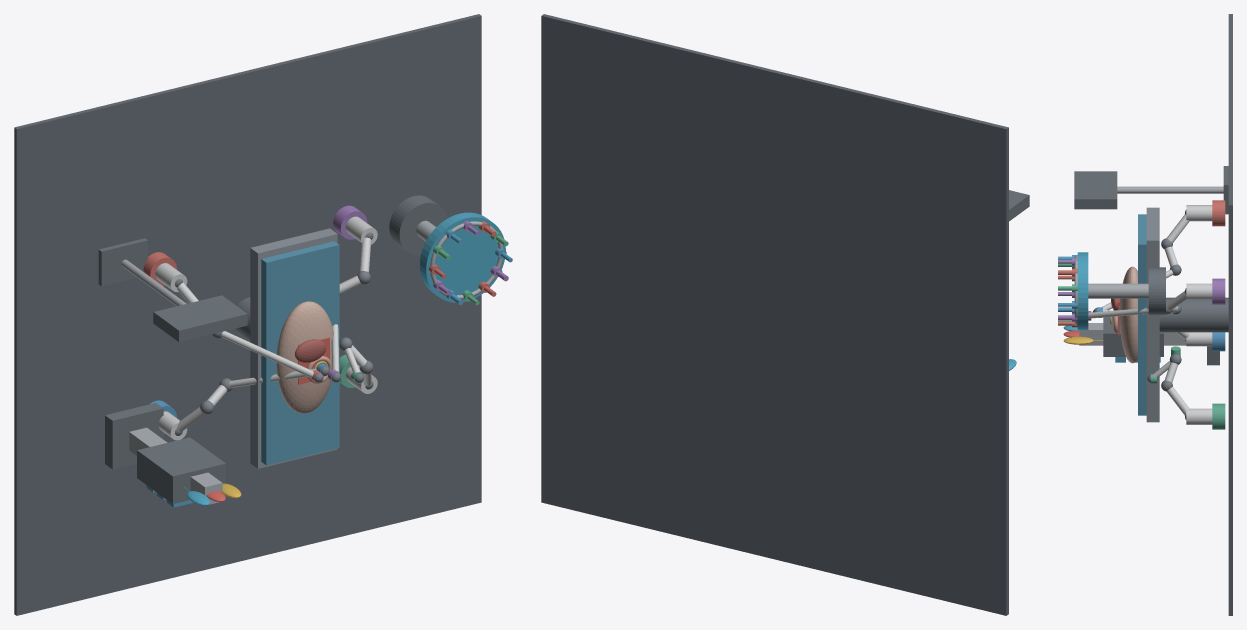
File: dranmar_autonomous_rescue_or_anastomotic_leak_rescue.glb
3 renders of one model, left to right at view 1: azimuth 30°, elevation 25°; view 2: azimuth 150°, elevation 25°; view 3: azimuth 270°, elevation 25°, orthographic. The views are drawn at different scales.
Parts seen in each view (by area): view 1: floor, mattress, carousel_rotor, table_base, pump_rack, patient_torso, monitor_body, resus_base, carousel_base, monitor_base, resus_column, rescue_link_2; view 2: floor; view 3: floor, table_base, table_column, monitor_body, mattress, patient_torso, carousel_column, carousel_rotor, carousel_base, monitor_pole, pump_rack, resus_column (+11 smaller).
Part boxes in pixels (bbox=[...]): floor: bbox=[14, 14, 481, 615]; mattress: bbox=[261, 241, 339, 465]; carousel_rotor: bbox=[420, 212, 505, 302]; table_base: bbox=[250, 228, 337, 468]; pump_rack: bbox=[137, 437, 225, 503]; patient_torso: bbox=[276, 301, 333, 413]; monitor_body: bbox=[153, 295, 247, 342]; resus_base: bbox=[105, 403, 163, 469]; carousel_base: bbox=[389, 195, 447, 255]; monitor_base: bbox=[98, 238, 147, 286]; resus_column: bbox=[129, 427, 222, 504]; rescue_link_2: bbox=[221, 331, 313, 377]; floor: bbox=[541, 14, 1008, 615]; floor: bbox=[1228, 14, 1232, 615]; table_base: bbox=[1146, 207, 1159, 422]; table_column: bbox=[1159, 297, 1228, 332]; monitor_body: bbox=[1074, 171, 1117, 209]; mattress: bbox=[1138, 214, 1146, 415]; patient_torso: bbox=[1119, 266, 1137, 363]; carousel_column: bbox=[1088, 283, 1148, 298]; carousel_rotor: bbox=[1077, 252, 1088, 329]; carousel_base: bbox=[1148, 267, 1165, 314]; monitor_pole: bbox=[1117, 186, 1223, 193]; pump_rack: bbox=[1103, 316, 1163, 356]; resus_column: bbox=[1079, 323, 1186, 345].
Bounding box in the file's own units: 4.2 × 4.2 × 1.62.
